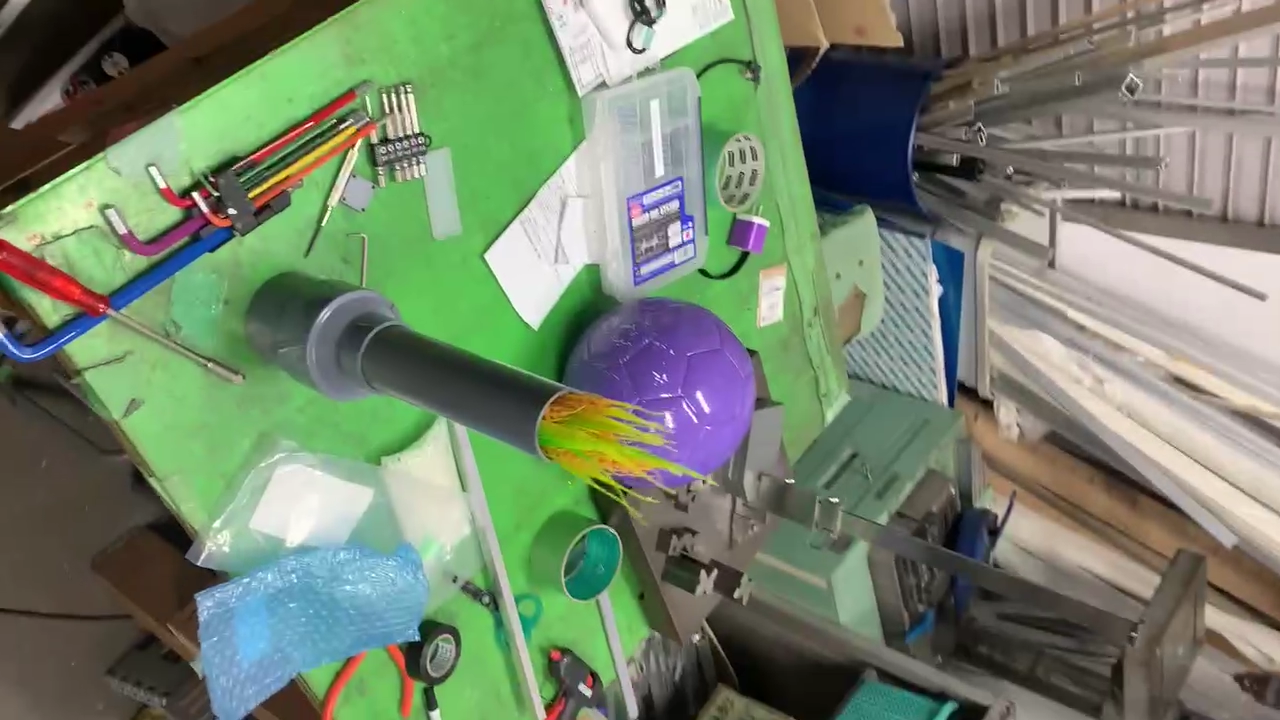purple: (567, 304, 752, 489)
